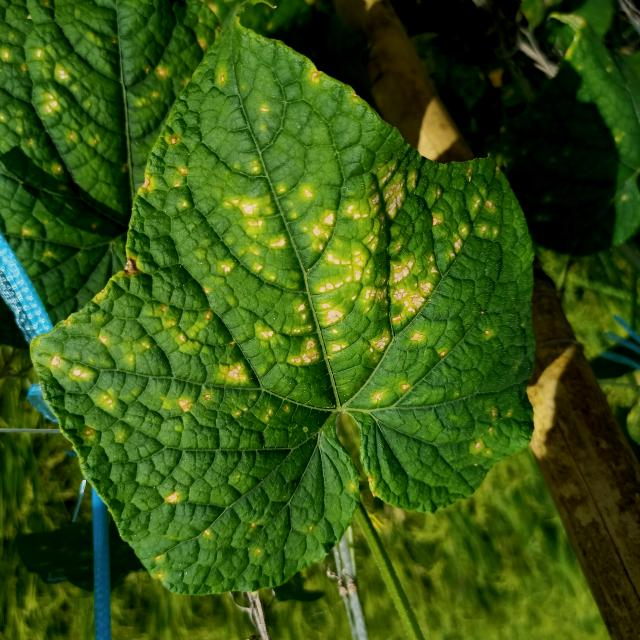disease_cucumber: (55, 88, 529, 553)
